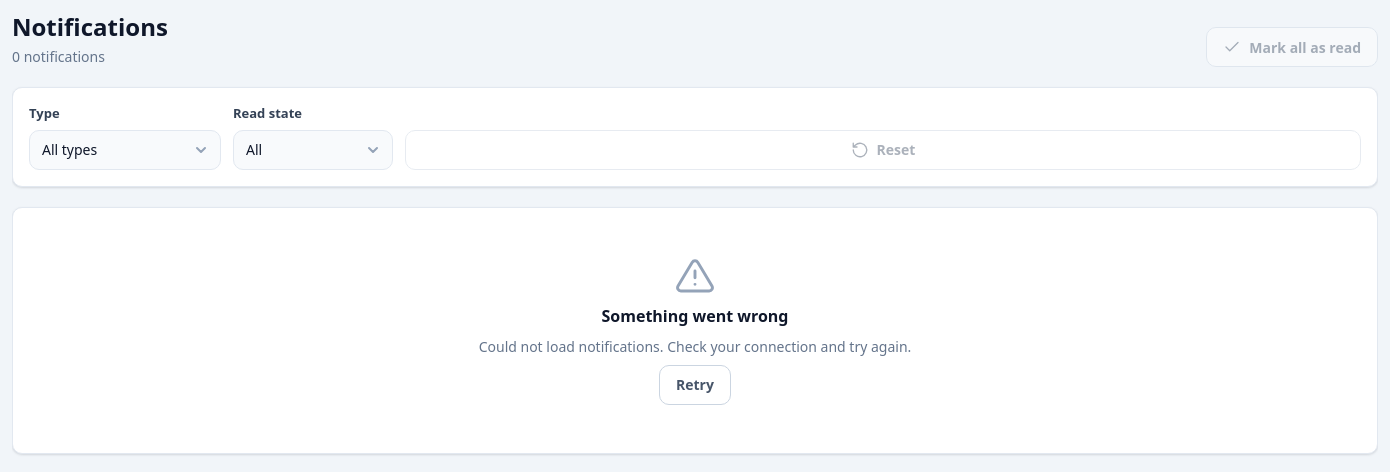
Test: NotificationCenterComponent › shows the error state and retries
Click the button "Retry".
click(695, 384)  # box [659, 364, 731, 404]
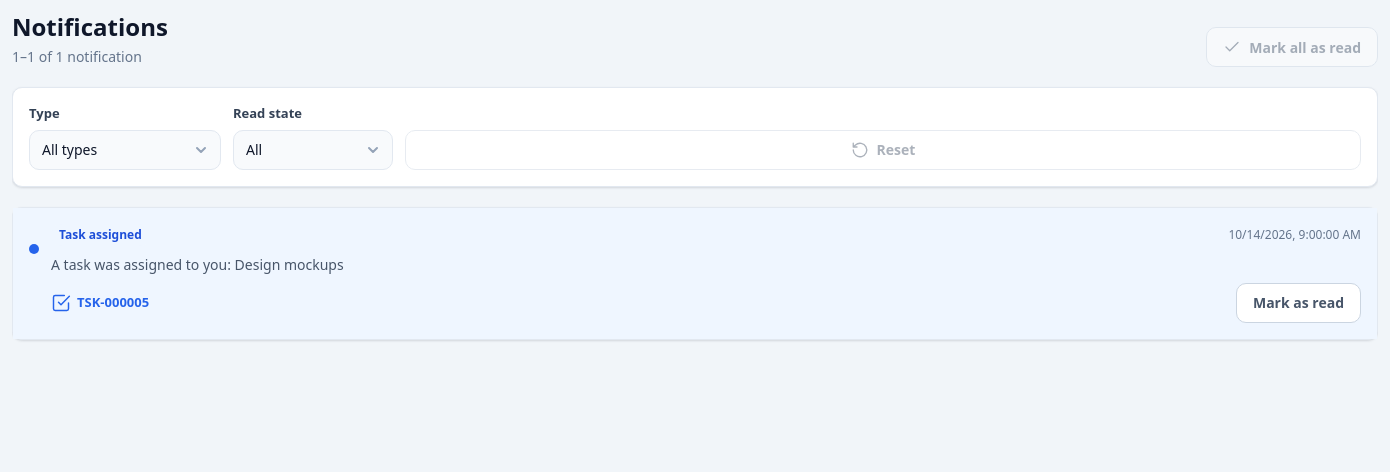
Check: the number of list items with class "notifications__item" is 1, box [13, 208, 1377, 338]
